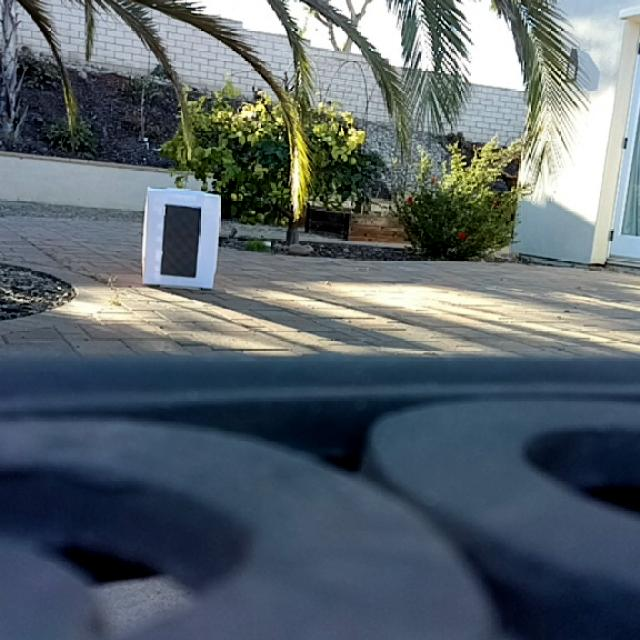led: (160, 204, 200, 278)
